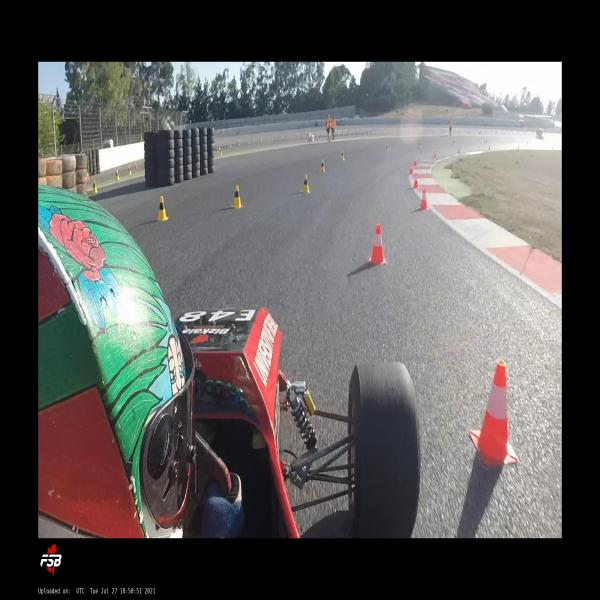orange_cone: (469, 360, 519, 468), (368, 224, 385, 265), (419, 189, 428, 209), (413, 173, 419, 189), (409, 163, 413, 174), (414, 156, 417, 166), (434, 150, 437, 158), (87, 173, 89, 180), (134, 162, 136, 168), (458, 147, 460, 153)
yellow_cone: (156, 195, 168, 221), (231, 185, 244, 209), (300, 175, 310, 193), (320, 160, 326, 172), (93, 180, 98, 194), (116, 170, 120, 181), (341, 150, 345, 161), (128, 165, 132, 175), (219, 147, 223, 156), (216, 145, 219, 154), (386, 145, 389, 152), (452, 140, 455, 146), (419, 142, 421, 148)
